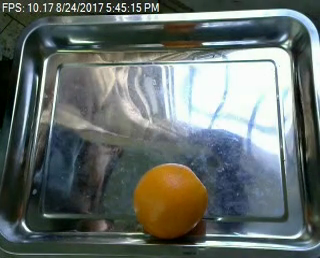Orange: (132, 160, 210, 240)
